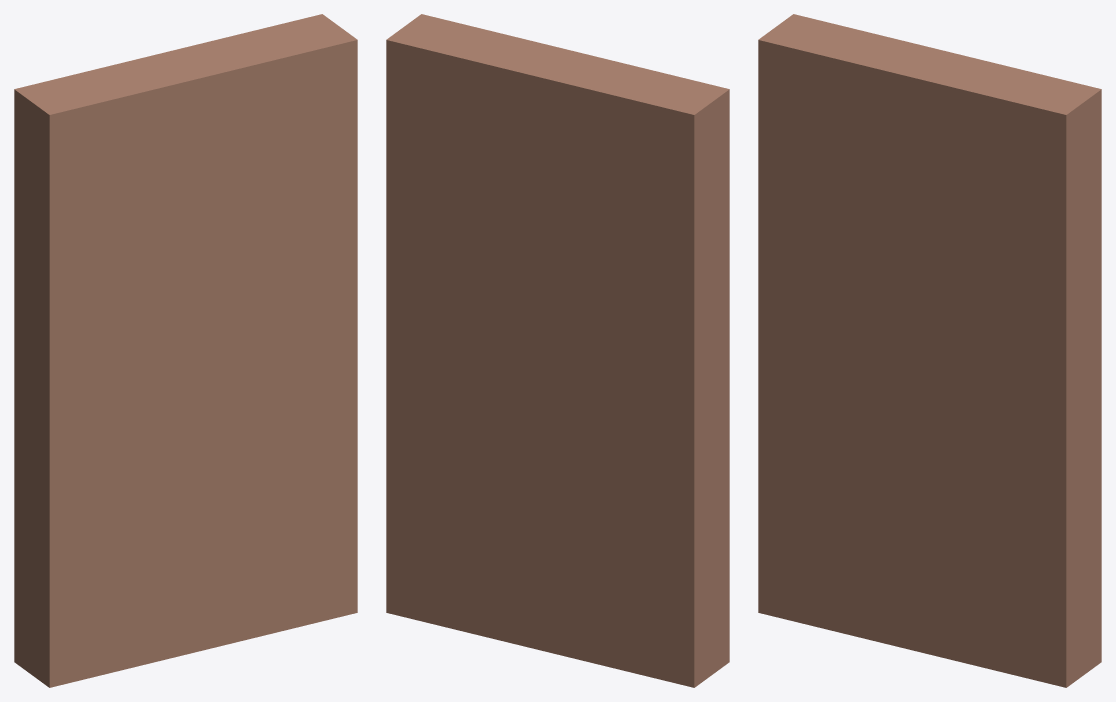
File: door0-new.gltf
3 views of the same model, side by side, from view 1: azimuth 30°, elevation 25°; view 2: azimuth 150°, elevation 25°; view 3: azimuth 330°, elevation 25° (orthographic).
Size of the model in its own units: 0.7393 by 1.31 by 0.1469.
